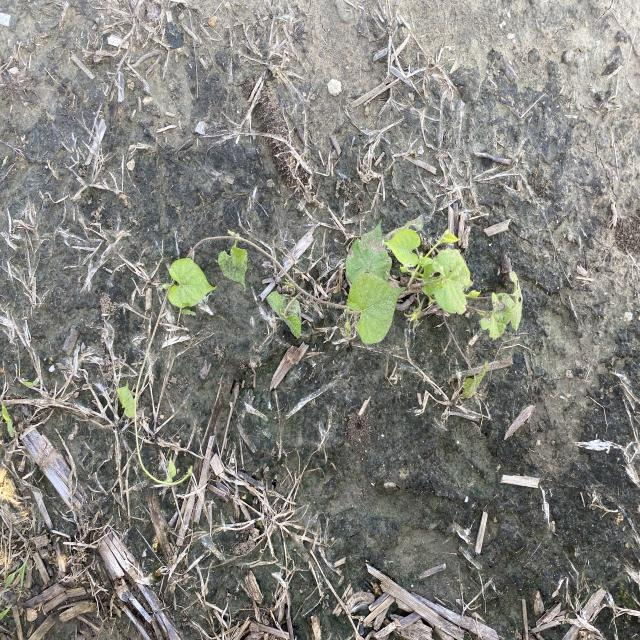MorningGlory: (115, 213, 523, 489)
